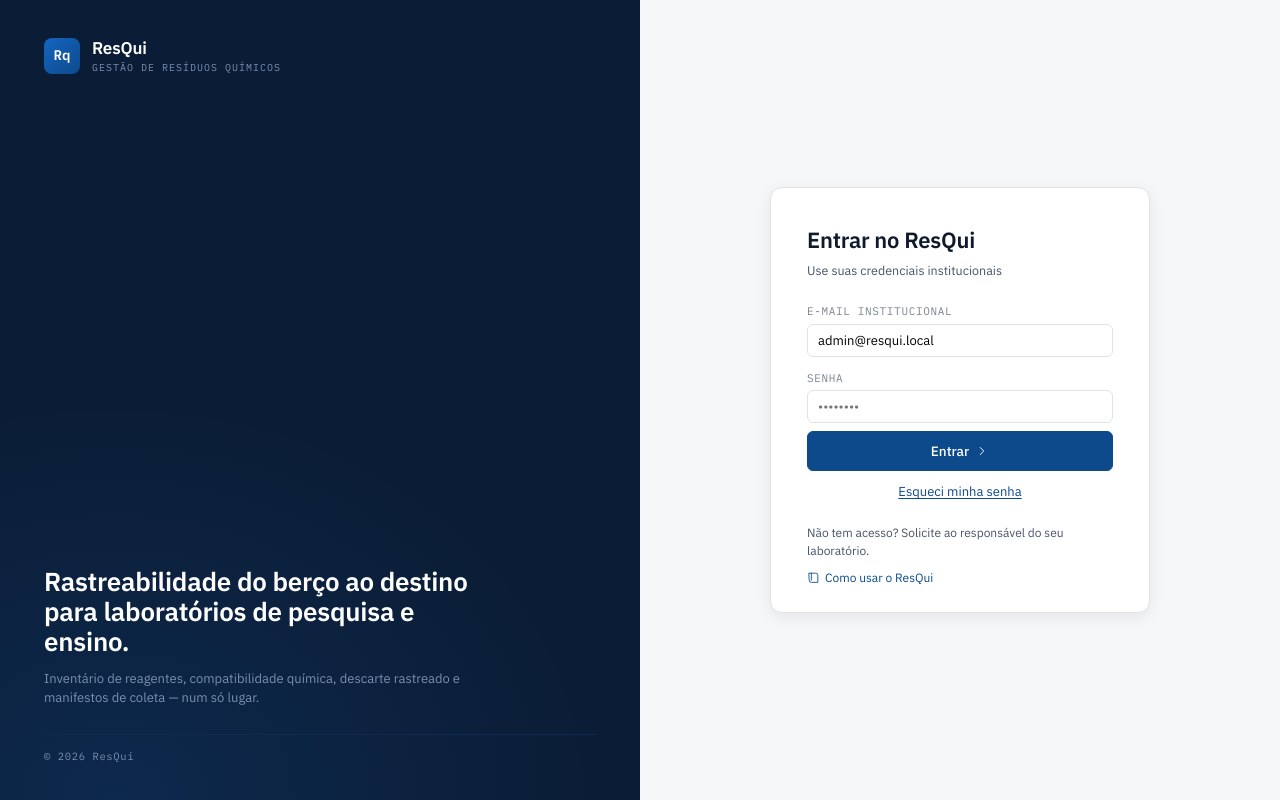
Test: LoginScreen — esqueci minha senha › mostra inline a recusa do servidor quando o e-mail não está configurado
Step 1. Click the button "Esqueci minha senha" → point(960, 493), box [898,483,1022,502]
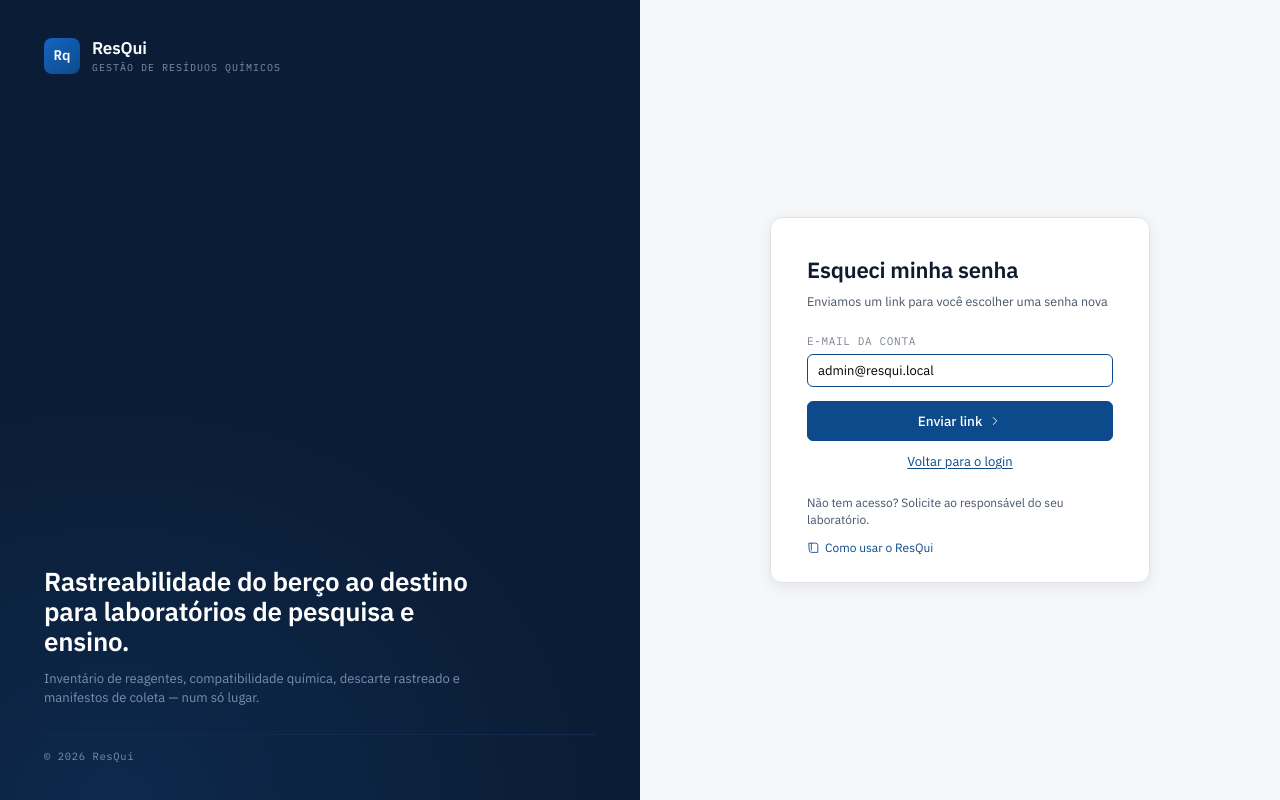
Step 2. Replace the text in the field labelled "E-mail da conta" with "ana@lab.com" → point(960, 370), box [807,354,1113,387]
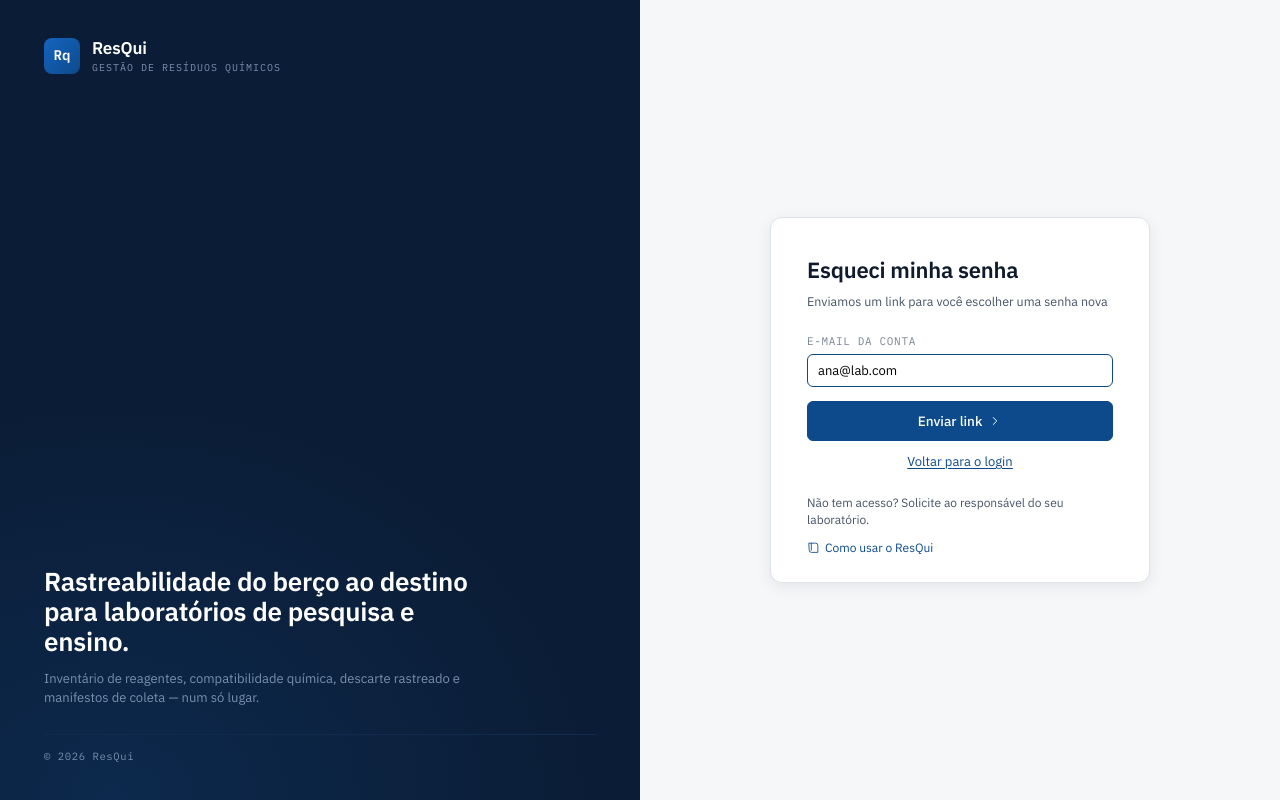
Step 3. Click the button "Enviar link" → point(960, 421), box [807,401,1113,441]
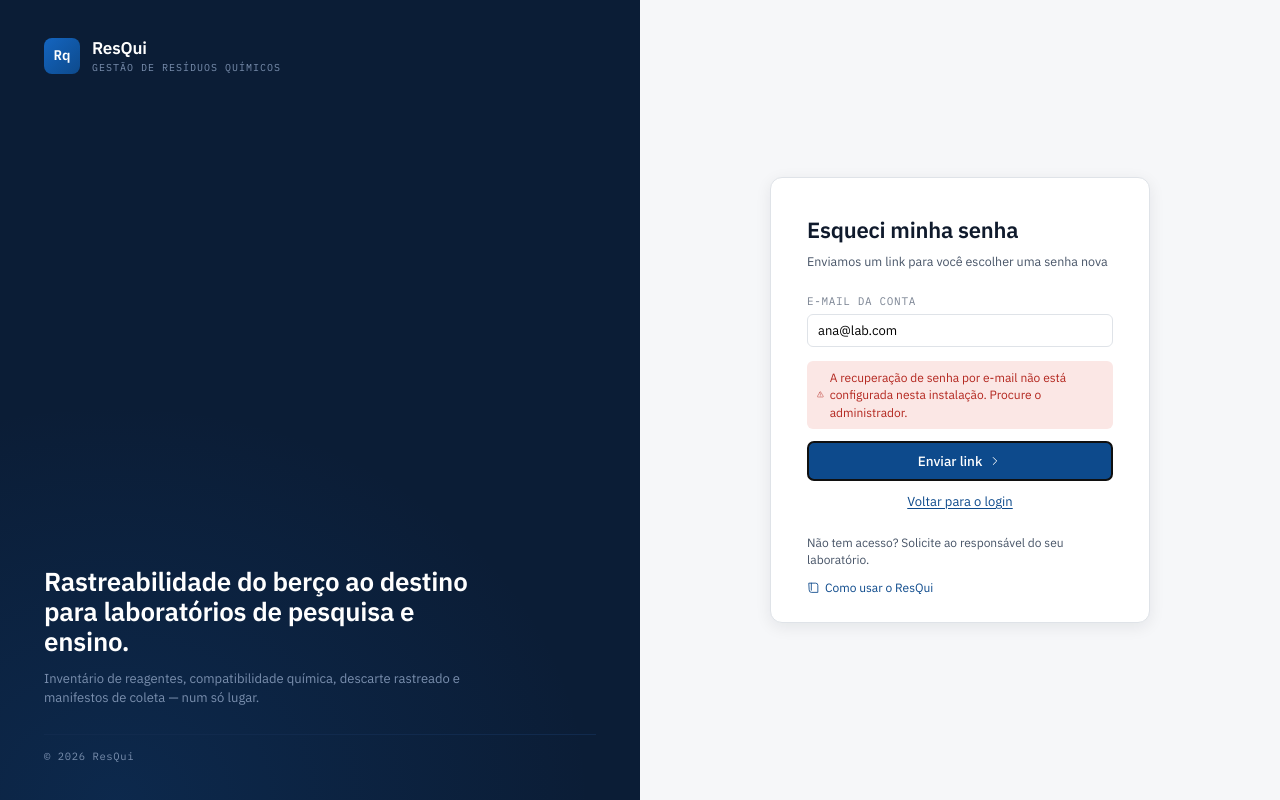
expect the text "Procure o administrador" is shown: met, box [830,370,1066,420]
